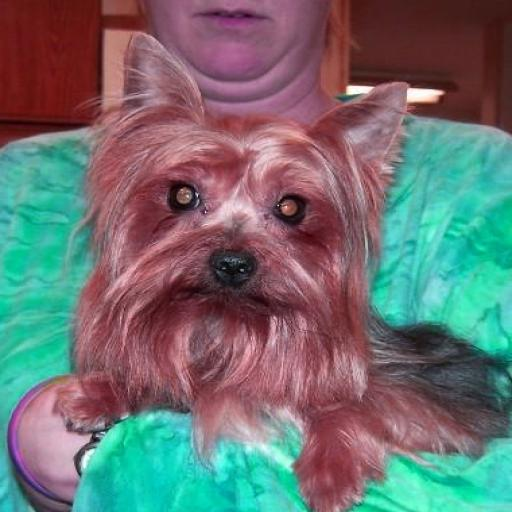dog_face: (95, 32, 408, 350)
